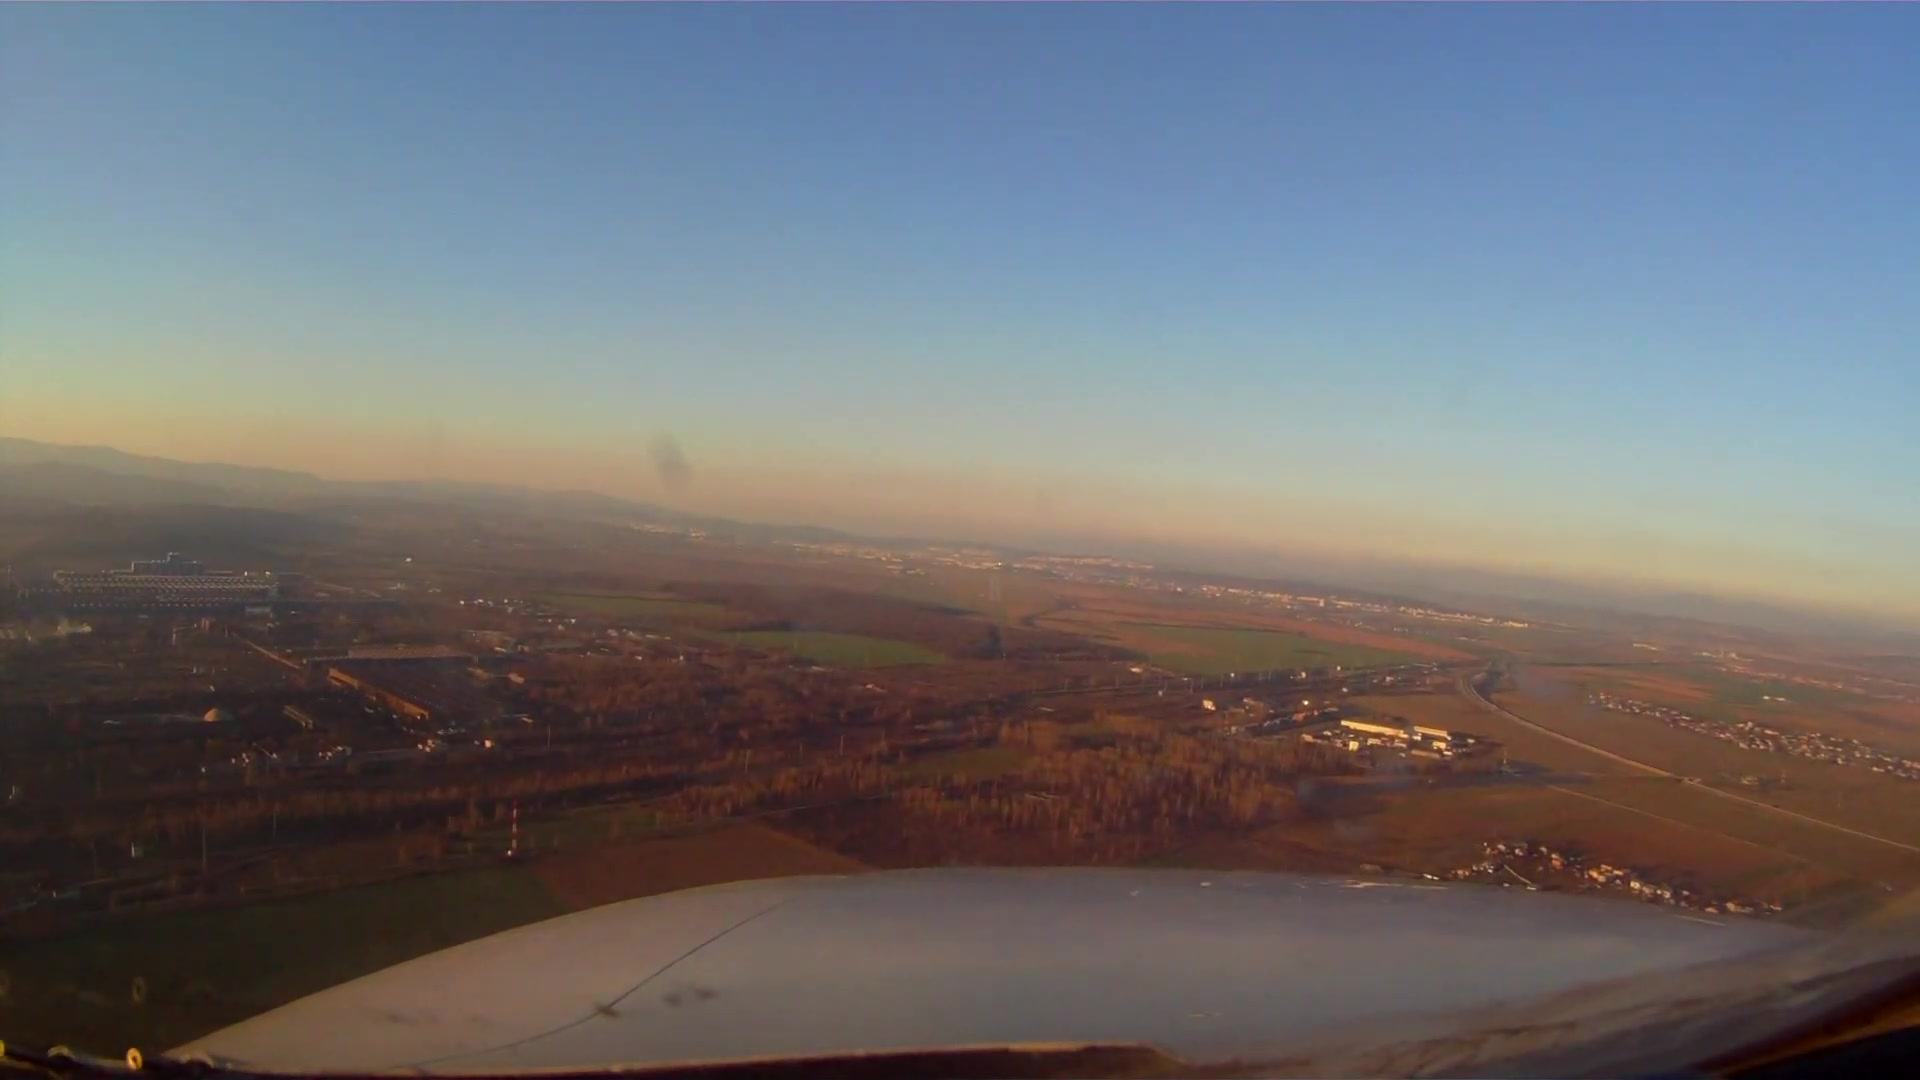runway: (986, 576, 1001, 604)
